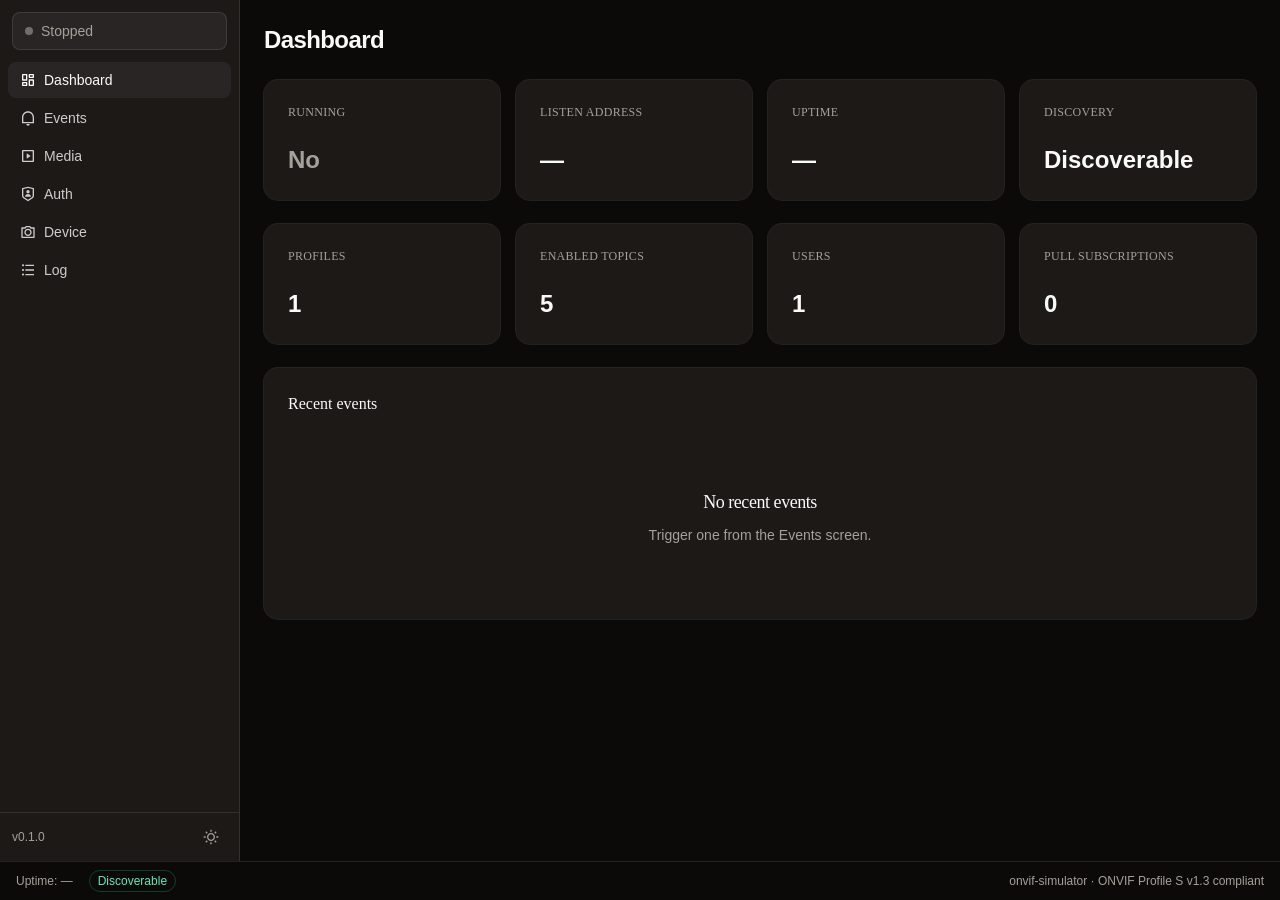
Test: Layout › switching nav swaps the rendered screen
This screenshot has width=1280, height=900.
Step 1. Click the button "Events" → click(120, 118), box [8,100,231,136]
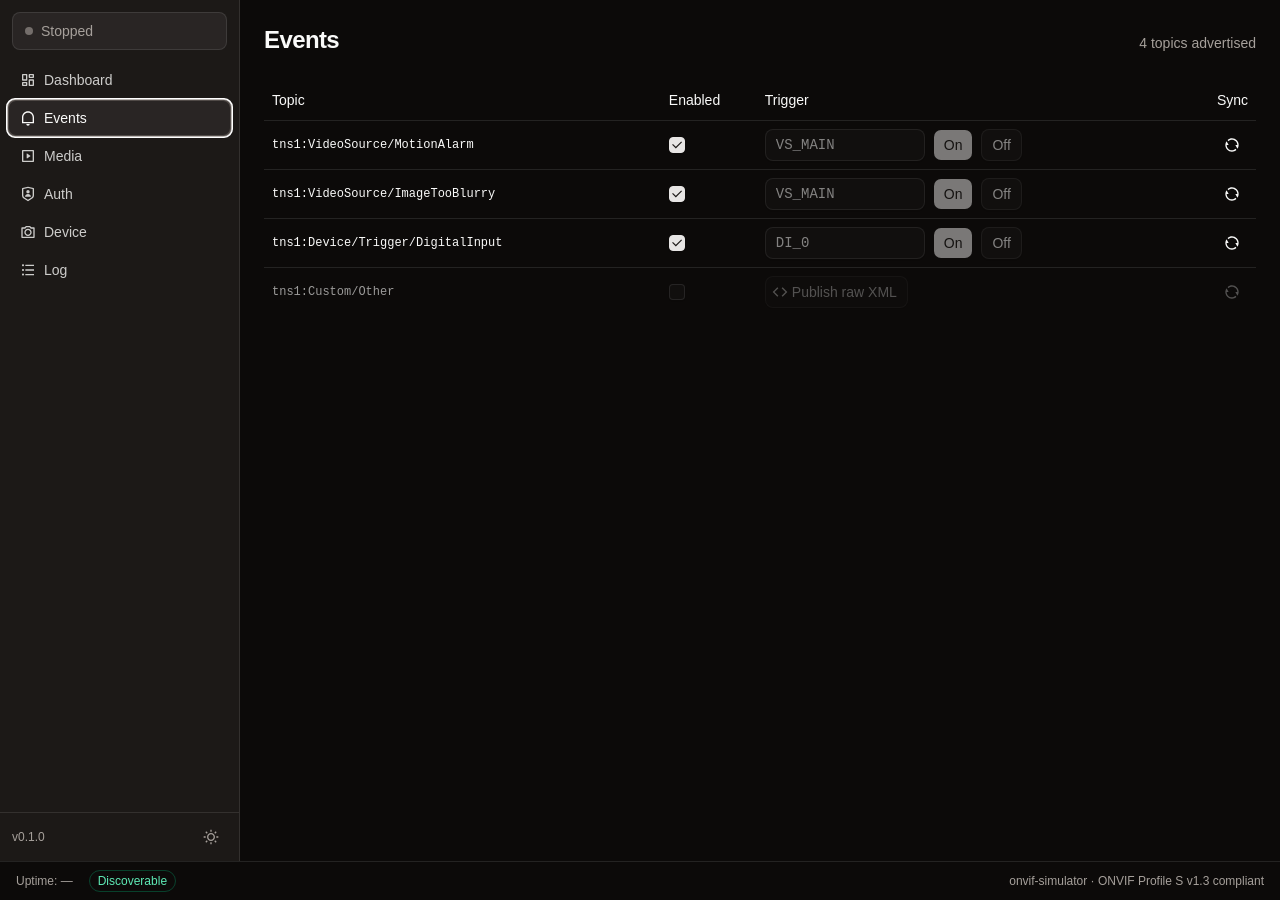
Result: the heading "Events" is shown at [264,24,339,56]
